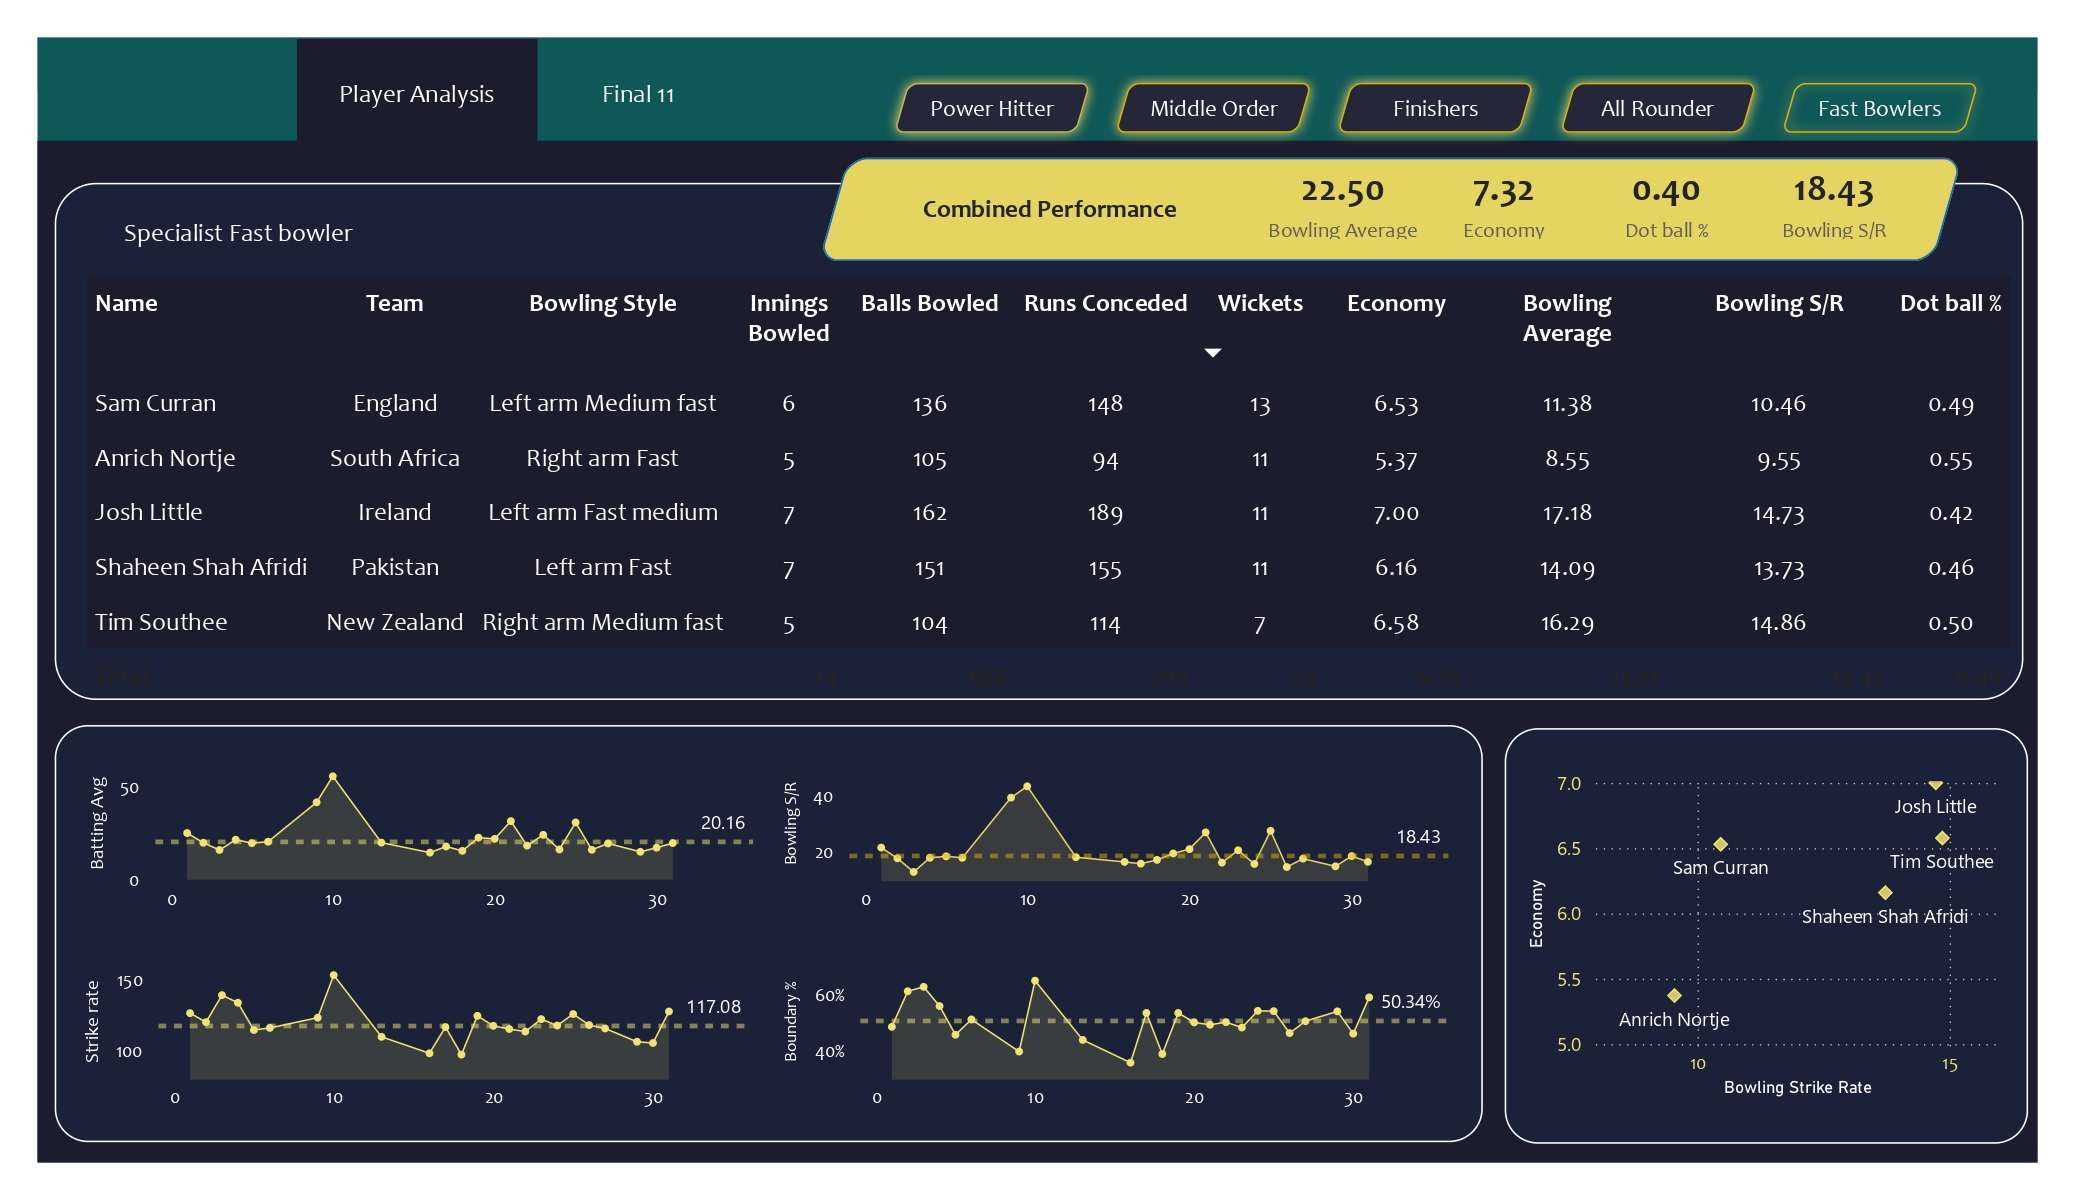

The dashboard page shown, as its layout file describes it:
{"tool":"powerbi","page":{"name":"Specialist Fast bowler","canvas":[1280,720],"ordinal":4},"visuals":[{"type":"shape","box":[0,66,1280,654],"z":0},{"type":"shape","box":[939,441.9,335,266.6],"z":1000},{"type":"shape","box":[11,93.3,1259.7,330.7],"z":2000},{"type":"tableEx","fields":{"Values":["dim_players.Name","dim_players.Team","dim_players.bowlingStyle","Key_measures.Total Innings Bowled","Key_measures.Balls Bowled","Key_measures.Runs Conceded","Key_measures.wickets","Key_measures.Economy","Key_measures.Bowling Average","Key_measures.Bowling Strike Rate","Key_measures.Dot ball %"]},"box":[25.7,147.1,1252.9,305.7],"z":3000},{"type":"scatterChart","fields":{"Category":["dim_players.Name"],"X":["Key_measures.Bowling Strike Rate"],"Y":["Key_measures.Economy"]},"box":[948.6,462.9,318.6,220],"z":4000},{"type":"shape","box":[500.5,76.8,731.4,65.9],"z":5000},{"type":"card","fields":{"Values":["Key_measures.Bowling Strike Rate"]},"box":[1089.1,74.4,122.1,60],"z":6000},{"type":"card","fields":{"Values":["Key_measures.Economy"]},"box":[882.4,74.4,112.5,60],"z":7000},{"type":"card","fields":{"Values":["Key_measures.Dot ball %"]},"box":[988.5,74.4,107,60],"z":8000},{"type":"card","fields":{"Values":["Key_measures.Bowling Average"]},"box":[781.8,74.4,107,60],"z":9000},{"type":"shape","box":[534.8,91.9,226.4,34.3],"z":10000},{"type":"shape","box":[540.3,20.6,142,48],"z":11000},{"type":"shape","box":[682.3,20.6,142,48],"z":12000},{"type":"shape","box":[824.3,20.6,142,48],"z":13000},{"type":"shape","box":[966.4,20.6,142,48],"z":14000},{"type":"shape","box":[1108.1,20.6,142,48],"z":15000},{"type":"shape","box":[11,440.5,913.9,266.2],"z":16000},{"type":"areaChart","fields":{"Y":["Key_measures.Batting Avg"],"Category":["dim_match_summary.matchDate.Variation.Date Hierarchy.Day"]},"box":[27.7,452.7,435,115],"z":17000},{"type":"areaChart","fields":{"Category":["dim_match_summary.matchDate.Variation.Date Hierarchy.Day"],"Y":["Key_measures.Bowling Strike Rate"]},"box":[473.2,453,435,115.3],"z":18000},{"type":"areaChart","fields":{"Category":["dim_match_summary.matchDate.Variation.Date Hierarchy.Day"],"Y":["Key_measures.Strike rate"]},"box":[25.2,580.3,435,115],"z":19000},{"type":"areaChart","fields":{"Y":["Key_measures.Boundary %"],"Category":["dim_match_summary.matchDate.Variation.Date Hierarchy.Day"]},"box":[473.1,580.3,435,115],"z":20000},{"type":"shape","box":[37,103.3,182.5,42.5],"z":21000},{"type":"actionButton","box":[166,1.4,153.7,67.2],"z":22000},{"type":"actionButton","box":[319.7,1.4,129,67.2],"z":23000}]}

Visuals, with their boxes on the page's 1280x720 design canvas (x1, y1, x2, y2). These are canvas units, not pixel positions in the 2075x1200 screenshot, which may show the page scaled, cropped or inside an application window:
shape: bbox=(0, 66, 1280, 720)
shape: bbox=(939, 442, 1274, 708)
shape: bbox=(11, 93, 1271, 424)
tableEx - dim_players.Name x dim_players.Team: bbox=(26, 147, 1279, 453)
scatterChart - dim_players.Name x Key_measures.Bowling Strike Rate: bbox=(949, 463, 1267, 683)
shape: bbox=(500, 77, 1232, 143)
card - Key_measures.Bowling Strike Rate: bbox=(1089, 74, 1211, 134)
card - Key_measures.Economy: bbox=(882, 74, 995, 134)
card - Key_measures.Dot ball %: bbox=(988, 74, 1096, 134)
card - Key_measures.Bowling Average: bbox=(782, 74, 889, 134)
shape: bbox=(535, 92, 761, 126)
shape: bbox=(540, 21, 682, 69)
shape: bbox=(682, 21, 824, 69)
shape: bbox=(824, 21, 966, 69)
shape: bbox=(966, 21, 1108, 69)
shape: bbox=(1108, 21, 1250, 69)
shape: bbox=(11, 440, 925, 707)
areaChart - Key_measures.Batting Avg x dim_match_summary.matchDate.Variation.Date Hierarchy.Day: bbox=(28, 453, 463, 568)
areaChart - dim_match_summary.matchDate.Variation.Date Hierarchy.Day x Key_measures.Bowling Strike Rate: bbox=(473, 453, 908, 568)
areaChart - dim_match_summary.matchDate.Variation.Date Hierarchy.Day x Key_measures.Strike rate: bbox=(25, 580, 460, 695)
areaChart - Key_measures.Boundary % x dim_match_summary.matchDate.Variation.Date Hierarchy.Day: bbox=(473, 580, 908, 695)
shape: bbox=(37, 103, 220, 146)
actionButton: bbox=(166, 1, 320, 69)
actionButton: bbox=(320, 1, 449, 69)
